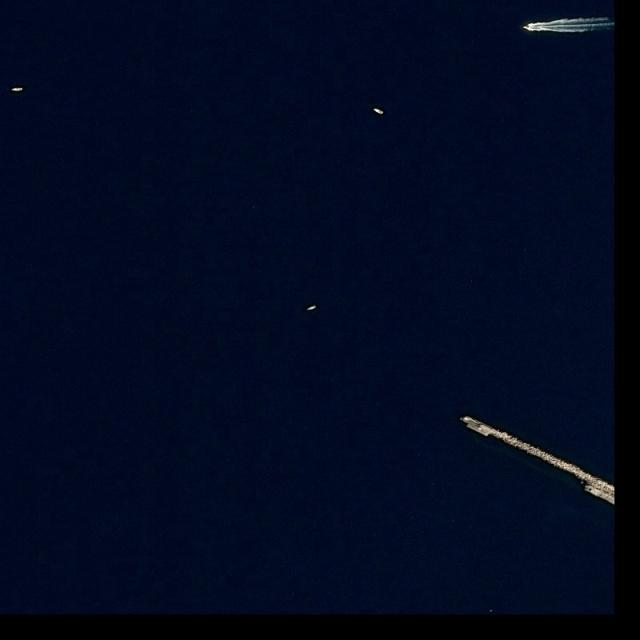ship: (372, 106, 385, 116), (306, 304, 317, 312), (11, 87, 23, 92), (522, 26, 533, 30)
